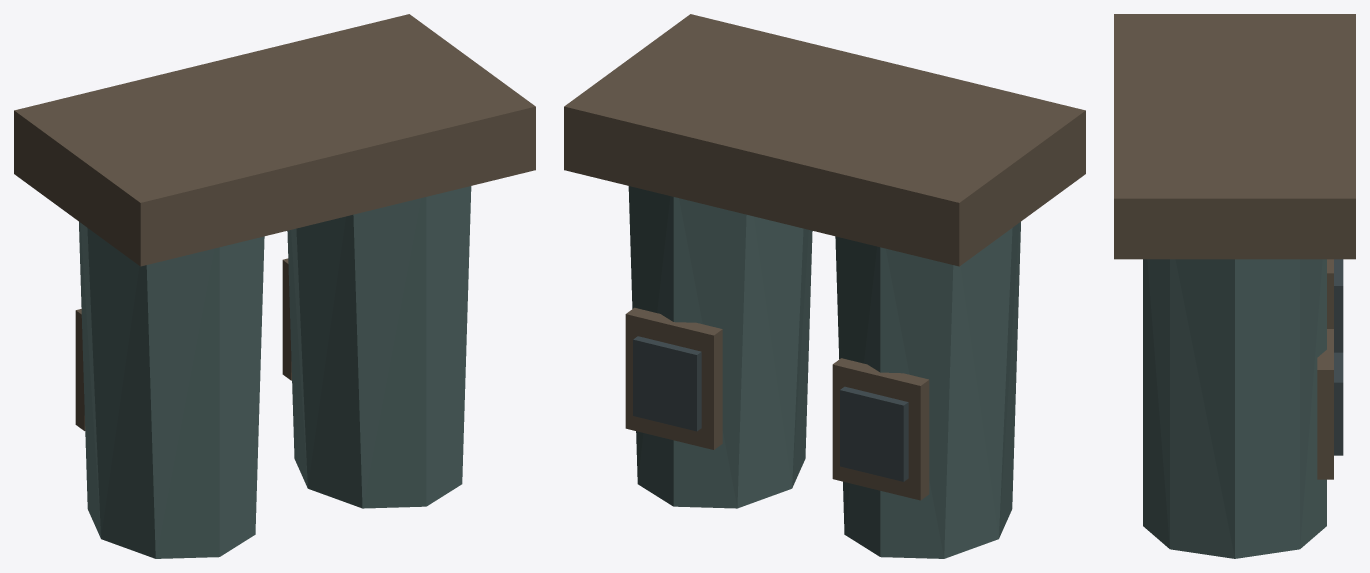
File: Equip_Trousers.fbx
The picture shows the model from 3 angles, left to right: view 1: azimuth 30°, elevation 25°; view 2: azimuth 150°, elevation 25°; view 3: azimuth 270°, elevation 25°; orthographic projection. The views are drawn at different scales.
Visible parts, largest first — view 1: Equip_Trousers; view 2: Equip_Trousers; view 3: Equip_Trousers.
Boxes of the visible parts, <box> form: Equip_Trousers: <box>14,14,535,558</box>; Equip_Trousers: <box>564,14,1085,558</box>; Equip_Trousers: <box>1114,14,1355,558</box>.
Bounding box in the file's own units: 0.65 × 0.61 × 0.36.
